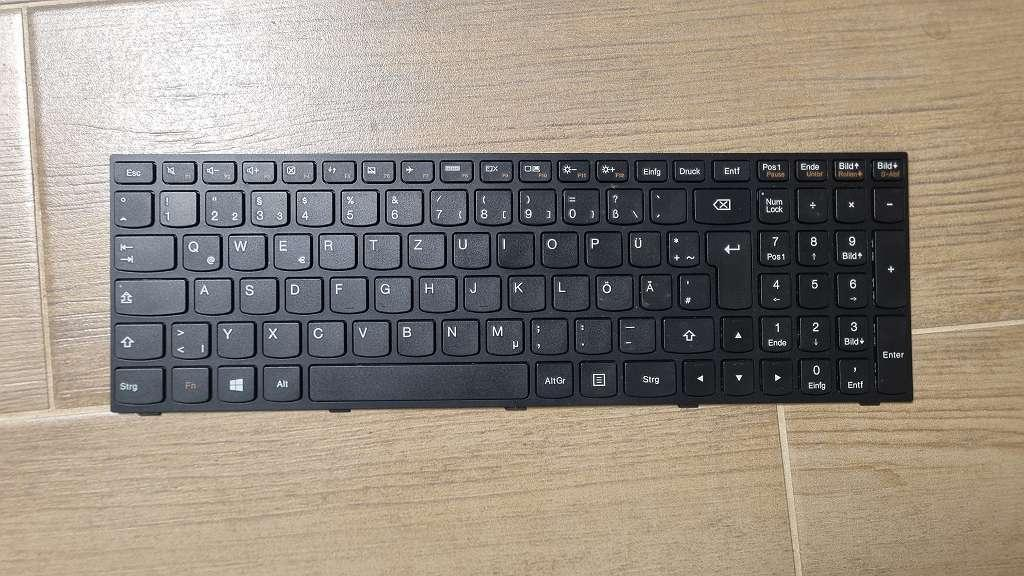0: (559, 185, 598, 223)
1: (157, 188, 196, 225)
2: (202, 187, 243, 225)
3: (247, 188, 288, 224)
4: (293, 187, 332, 224)
5: (338, 187, 377, 224)
6: (382, 187, 422, 224)
7: (428, 187, 466, 224)
8: (472, 186, 511, 223)
9: (515, 186, 555, 223)
a: (192, 275, 231, 313)
accent: (647, 185, 685, 222)
ae: (637, 270, 670, 308)
alt-left: (260, 362, 301, 400)
altgr-right: (532, 359, 572, 397)
b: (393, 317, 434, 355)
c: (304, 317, 344, 356)
caret: (111, 188, 151, 226)
comma: (527, 315, 567, 354)
d: (282, 274, 322, 313)
del: (690, 185, 749, 223)
e: (270, 230, 310, 268)
enter: (703, 226, 750, 308)
f: (327, 274, 366, 311)
g: (371, 273, 411, 311)
h: (416, 274, 455, 311)
hash: (675, 270, 708, 308)
i: (494, 229, 533, 267)
j: (461, 272, 499, 310)
k: (505, 272, 544, 310)
keyboard: (102, 145, 914, 418)
l: (549, 272, 588, 310)
less: (168, 319, 209, 357)
m: (482, 316, 523, 355)
minus: (615, 314, 654, 352)
n: (438, 317, 478, 354)
o: (537, 228, 577, 267)
oe: (593, 271, 631, 309)
p: (582, 228, 621, 266)
plus: (664, 227, 698, 265)
point: (571, 315, 611, 353)
q: (179, 231, 220, 269)
r: (315, 231, 355, 268)
s: (237, 274, 276, 313)
shift-left: (110, 319, 162, 358)
shift-lock: (112, 275, 185, 314)
shift-right: (660, 316, 718, 354)
space: (305, 359, 527, 400)
ss: (603, 185, 642, 223)
strg-left: (109, 364, 163, 403)
strg-right: (621, 357, 676, 396)
t: (360, 230, 400, 268)
tab: (111, 231, 173, 269)
u: (450, 229, 489, 268)
ue: (626, 228, 660, 266)
v: (350, 317, 389, 355)
w: (225, 231, 265, 269)
x: (259, 318, 299, 356)
y: (214, 319, 254, 357)
z: (405, 229, 444, 268)
